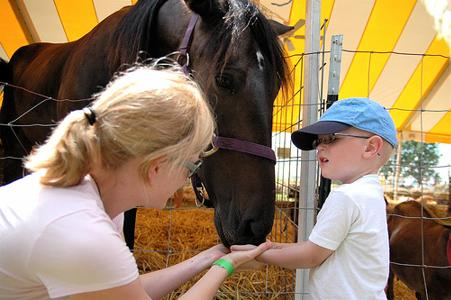person: (231, 98, 396, 300)
